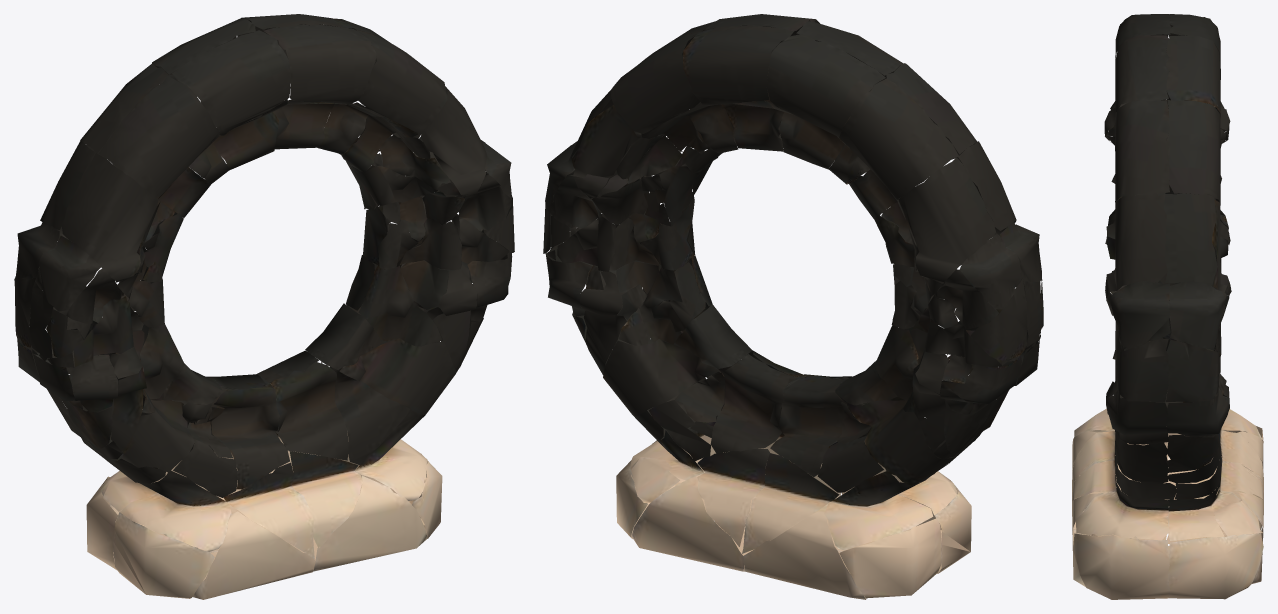
File: grapple-anchor-meshy-low.glb
The picture shows the model from 3 angles, left to right: view 1: azimuth 30°, elevation 25°; view 2: azimuth 150°, elevation 25°; view 3: azimuth 270°, elevation 25°; orthographic projection. The views are drawn at different scales.
Visible parts, largest first — view 1: Mesh_0.012; view 2: Mesh_0.012; view 3: Mesh_0.012.
Boxes of the visible parts, x1,y1,x2,y2 form: Mesh_0.012: (14,14,514,599); Mesh_0.012: (543,14,1043,599); Mesh_0.012: (1072,14,1263,599).
Bounding box in the file's own units: 1.83 × 1.9 × 0.6663.
1 material, 1 textured.
